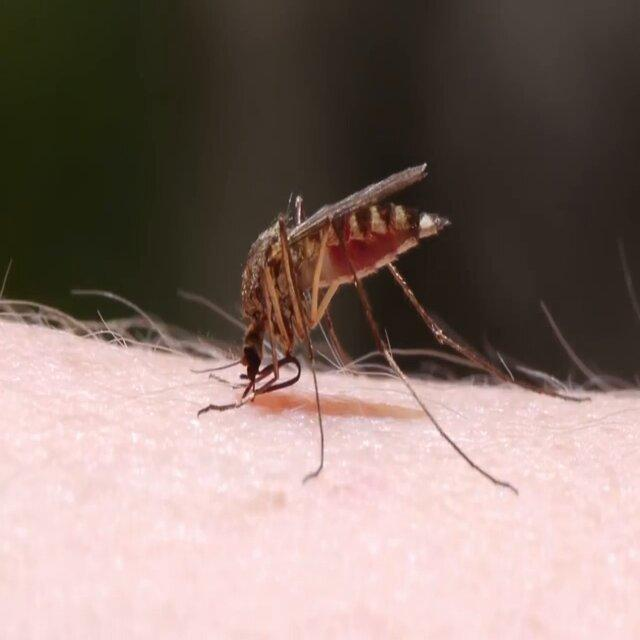mosquitos: (242, 165, 449, 373)
